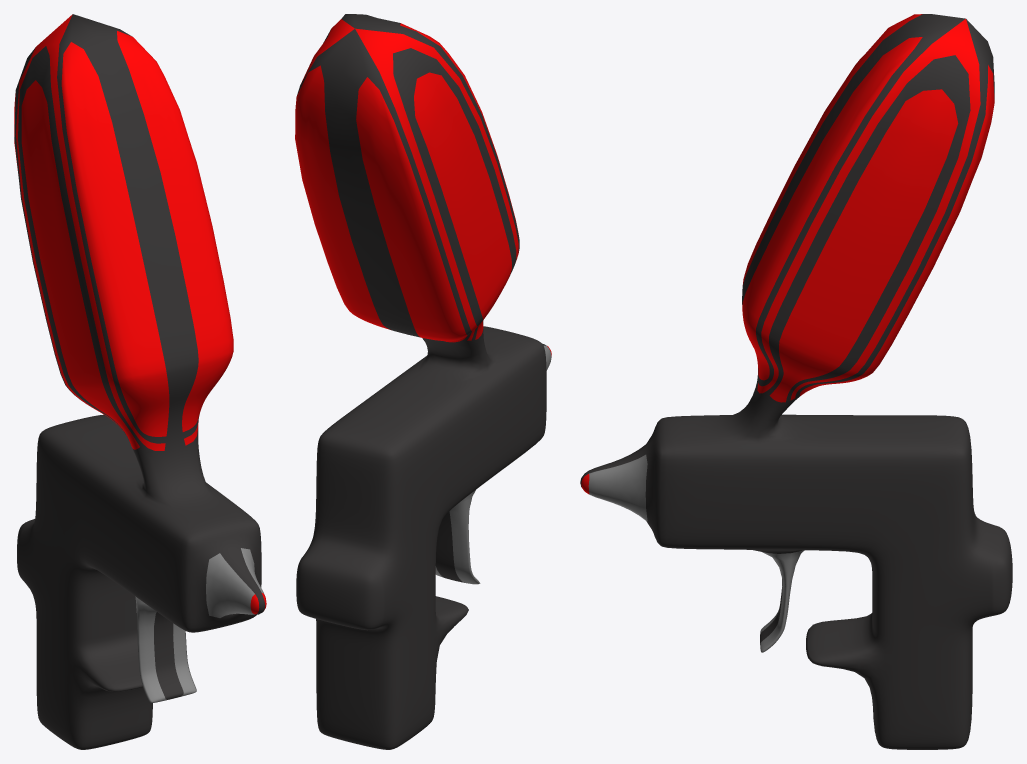
Rendered from PaintGun2.fbx.
3 views of the same model, side by side, from view 1: azimuth 30°, elevation 25°; view 2: azimuth 150°, elevation 25°; view 3: azimuth 270°, elevation 25° (orthographic). The views are drawn at different scales.
Visible parts, largest first — view 1: Subdivision_Surface_1; view 2: Subdivision_Surface_1; view 3: Subdivision_Surface_1.
Part boxes in pixels (bbox=[...]): Subdivision_Surface_1: bbox=[14, 14, 266, 749]; Subdivision_Surface_1: bbox=[295, 14, 551, 749]; Subdivision_Surface_1: bbox=[580, 14, 1012, 749].
Bounding box in the file's own units: 1.11 × 5.65 × 3.09.
